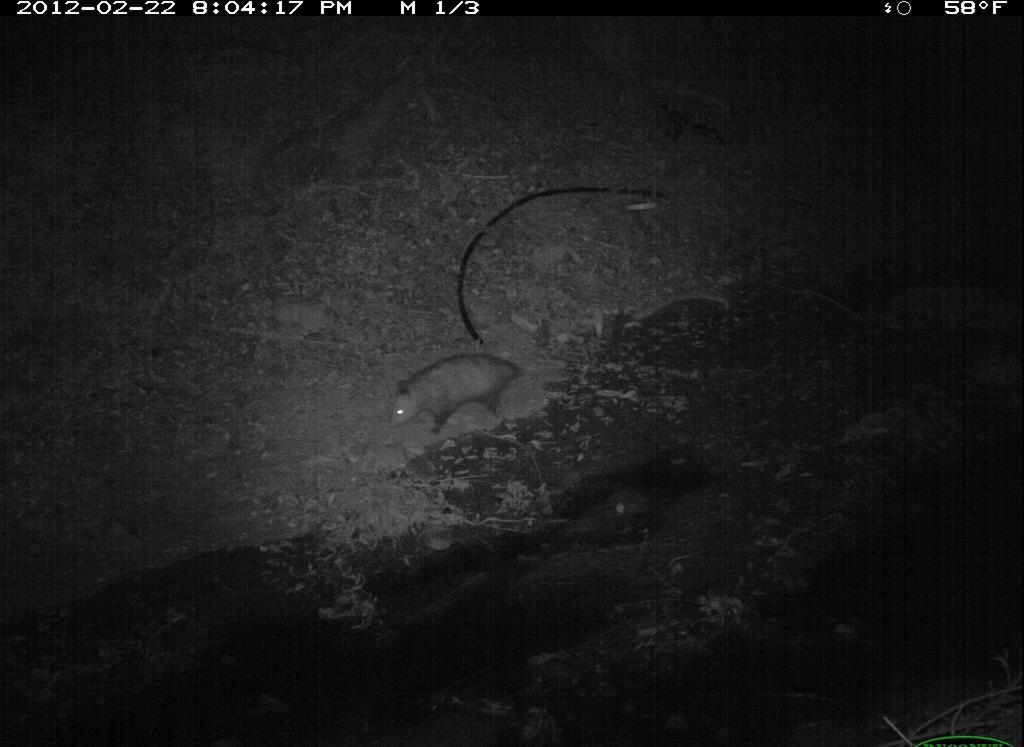opossum: (383, 347, 562, 440)
